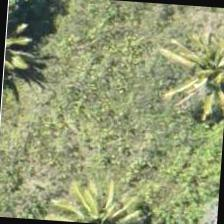Kelapa_Sawit: (173, 41, 223, 135)
